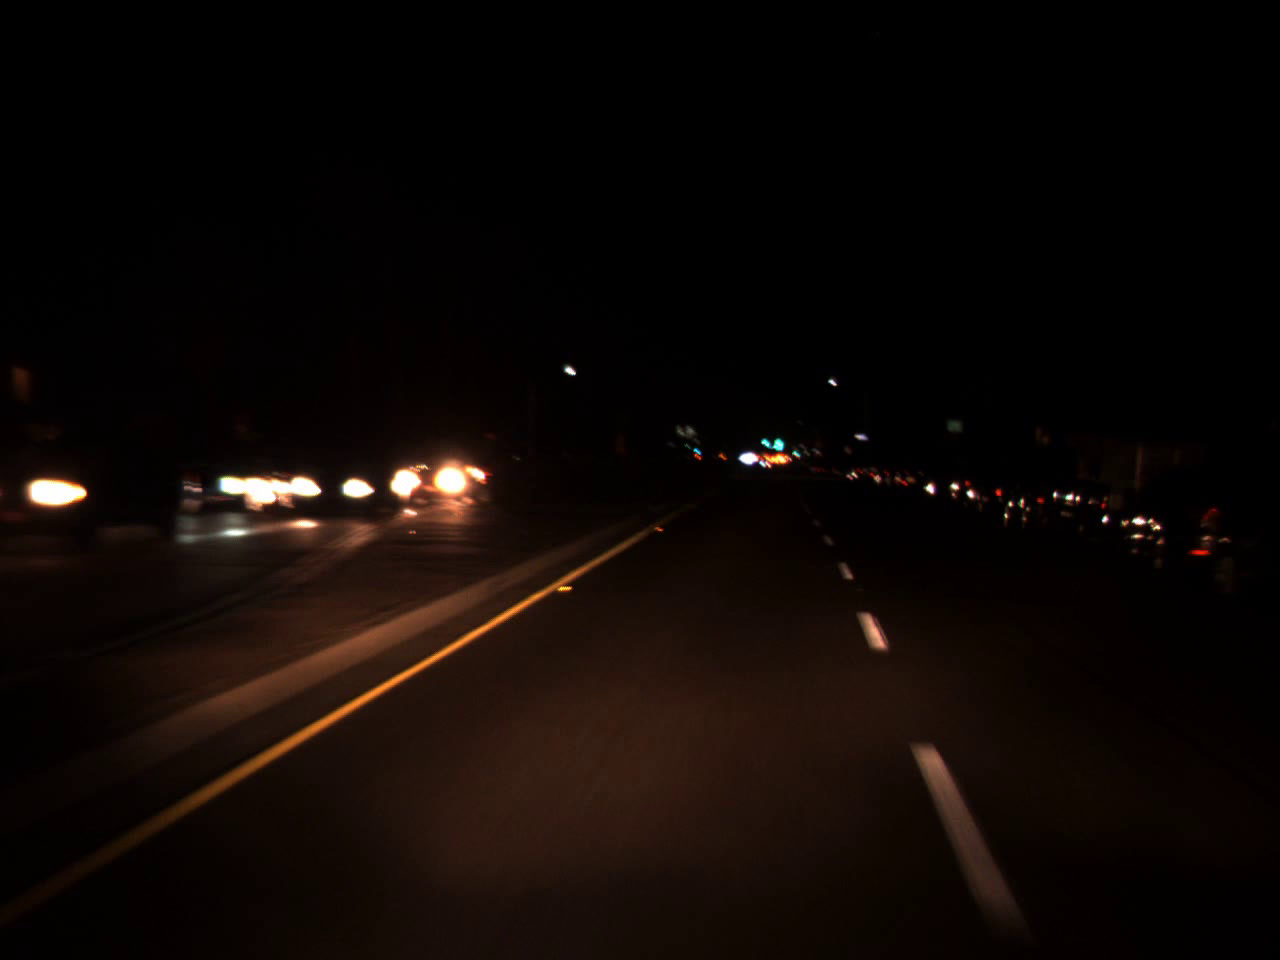go: (770, 430, 784, 448), (756, 430, 768, 445), (690, 442, 699, 454), (788, 444, 797, 456)
